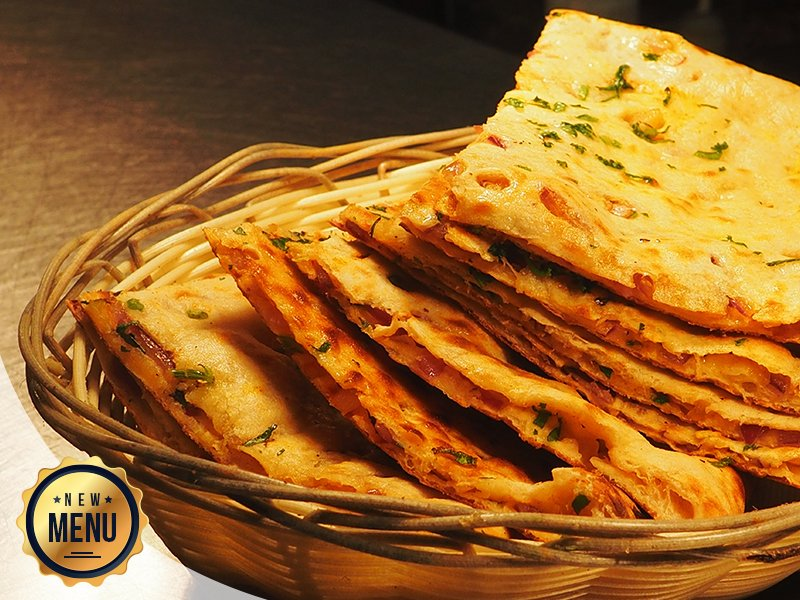aloo_paratha: (90, 8, 795, 497)
